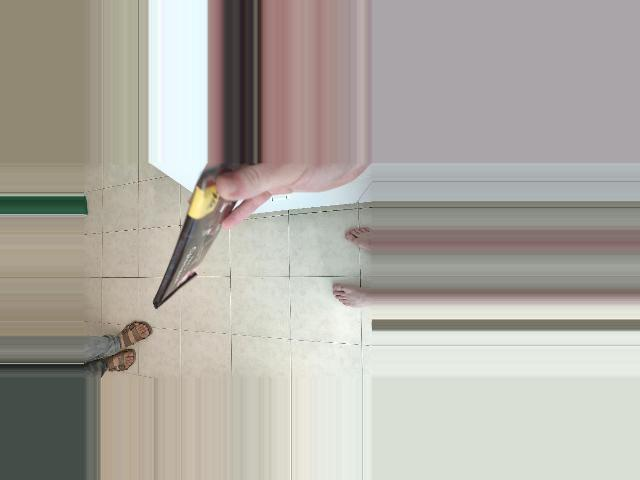chocolate: (153, 226, 299, 333)
